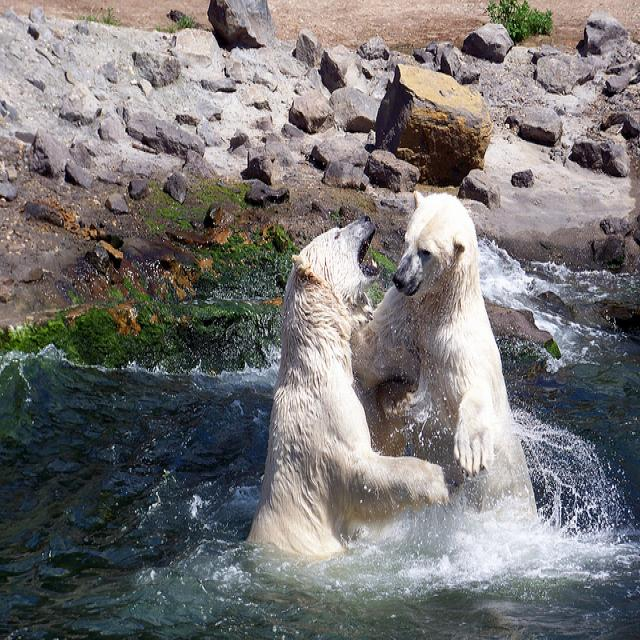Bear: (243, 207, 415, 586), (370, 174, 532, 547)
